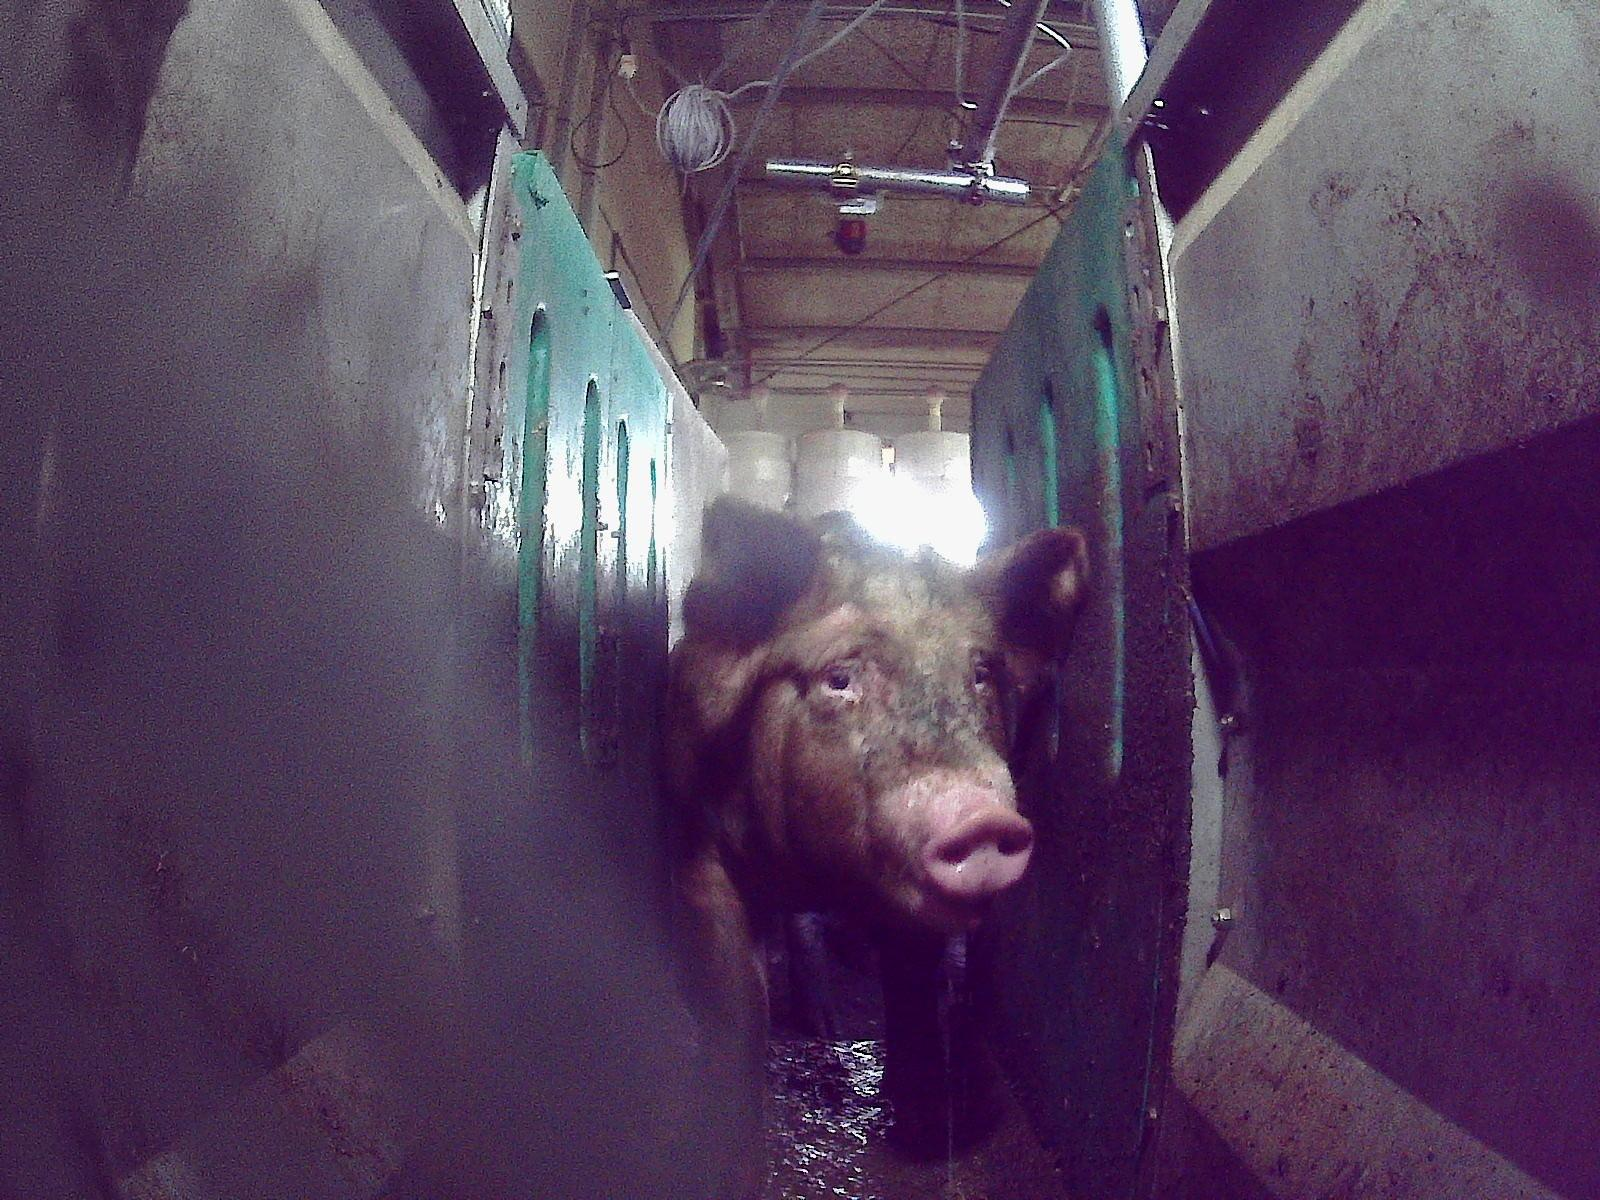Face: (755, 566, 1032, 934)
